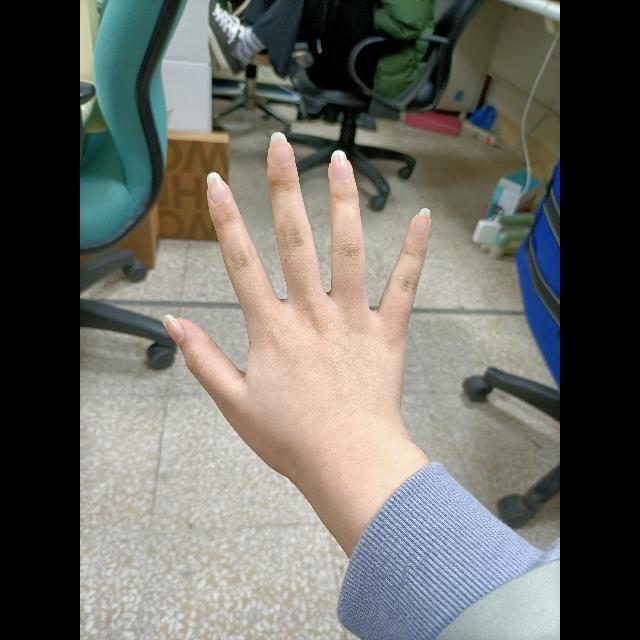bare_hand: (162, 126, 434, 452)
